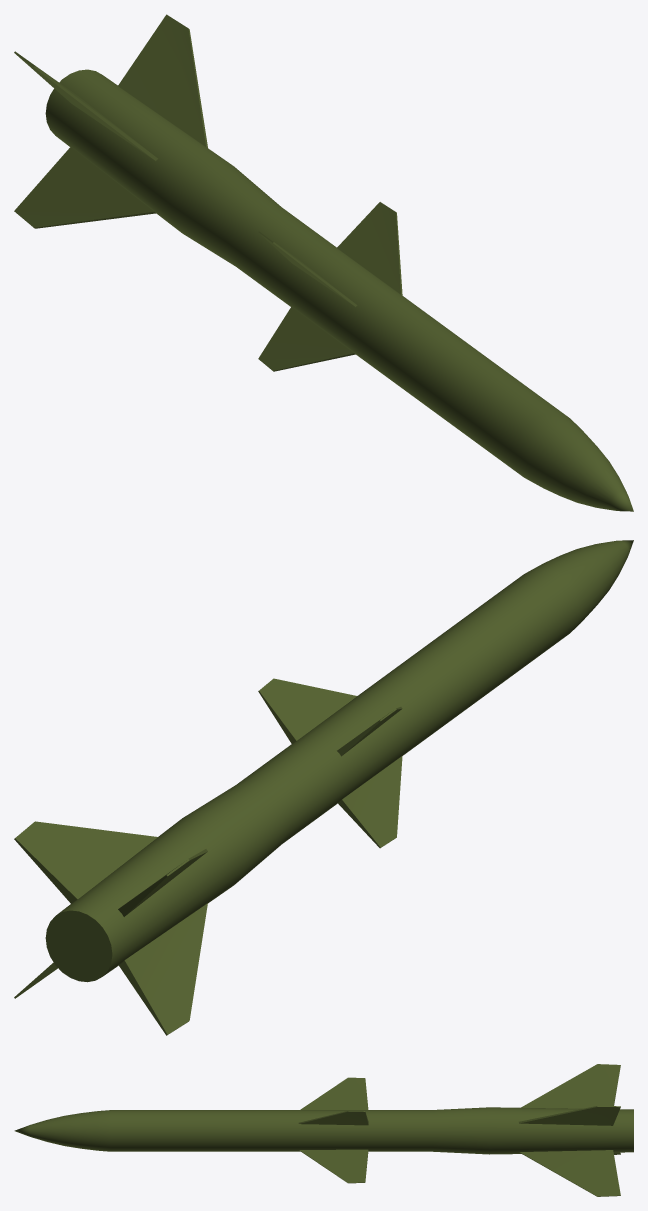
Rendered from enemy_missile.fbx.
3 renders of one model, top to bottom at view 1: azimuth 30°, elevation 25°; view 2: azimuth 150°, elevation 25°; view 3: azimuth 270°, elevation 25°, orthographic. The views are drawn at different scales.
Visible parts, largest first — view 1: Enemy Missle; view 2: Enemy Missle; view 3: Enemy Missle.
Boxes of the visible parts, x1,y1,x2,y2 form: Enemy Missle: [14, 14, 633, 511]; Enemy Missle: [14, 540, 633, 1035]; Enemy Missle: [14, 1064, 633, 1196].
Size of the model in its own units: 59.55 by 59.55 by 367.
